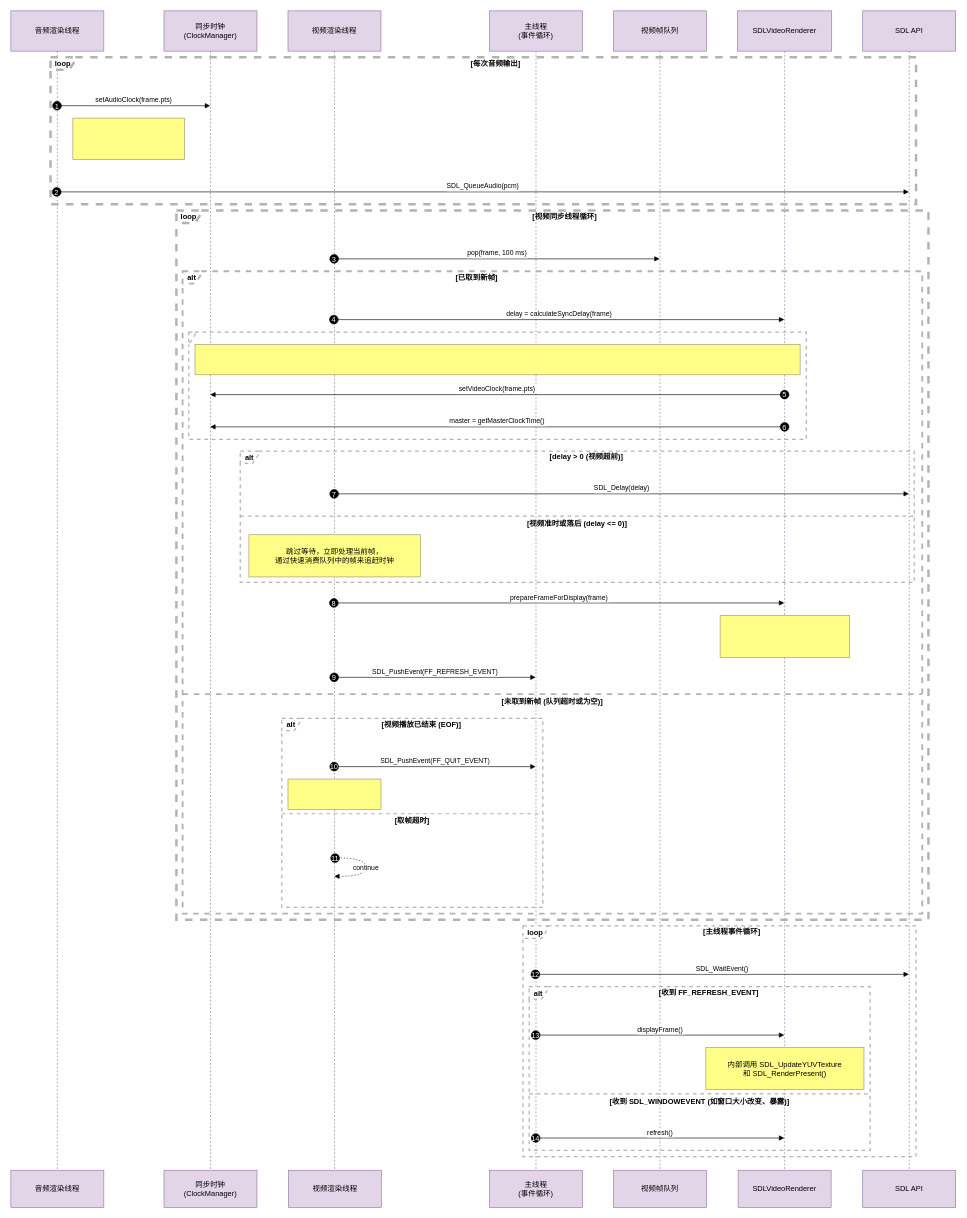
The diagram is 967 pixels wide and 1218 high, and some of its shapes have lost their labels. The shapes that lost their labels are listed below. From the top down, each one's centre as x and y in pixels, then its label:
At [128,138]: "实际播放时间点会由 ClockManager根据SDL 音频缓冲区大小校正".
At [497,359]: "calculateSyncDelay 内部实现".
At [785,636]: "转换色彩空间(sws_scale)， 为纹理准备好YUV数据".
At [334,793]: "线程准备退出".
